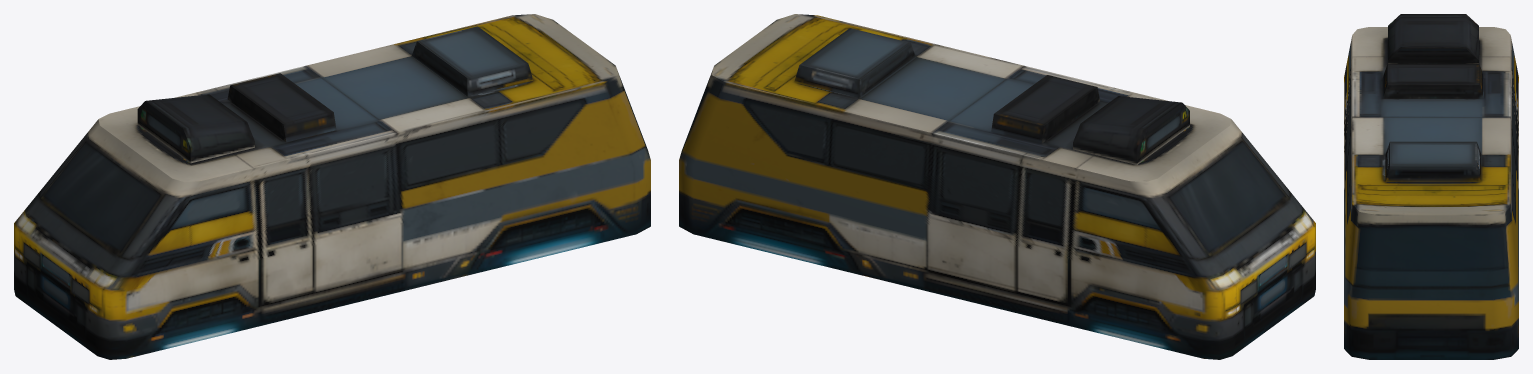
The model's file is CP_Air_Traffic_Car_02.fbx.
3 views of the same model, side by side, from view 1: azimuth 30°, elevation 25°; view 2: azimuth 150°, elevation 25°; view 3: azimuth 270°, elevation 25° (orthographic). The views are drawn at different scales.
Parts seen in each view (by area): view 1: CP_Air_Traffic_Car_02; view 2: CP_Air_Traffic_Car_02; view 3: CP_Air_Traffic_Car_02.
Part boxes in pixels (<box>): CP_Air_Traffic_Car_02: <box>14,14,650,359</box>; CP_Air_Traffic_Car_02: <box>679,14,1315,359</box>; CP_Air_Traffic_Car_02: <box>1344,14,1518,359</box>.
Bounding box in the file's own units: 750 × 238 × 238.
